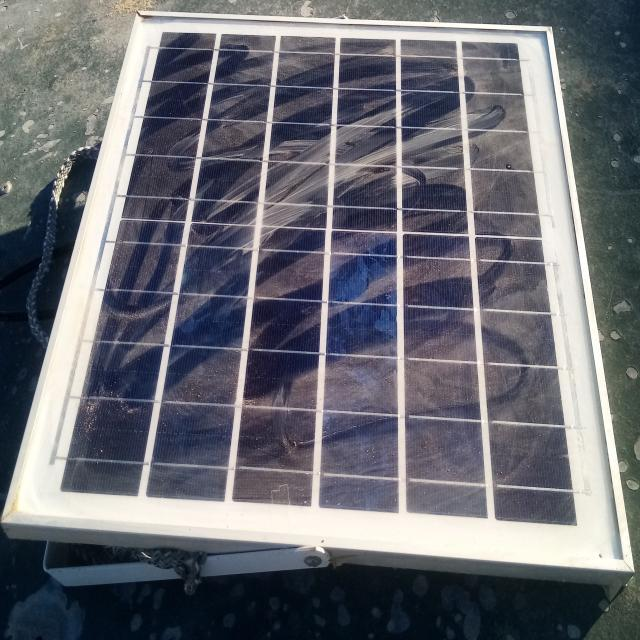faulty: (8, 14, 629, 566)
